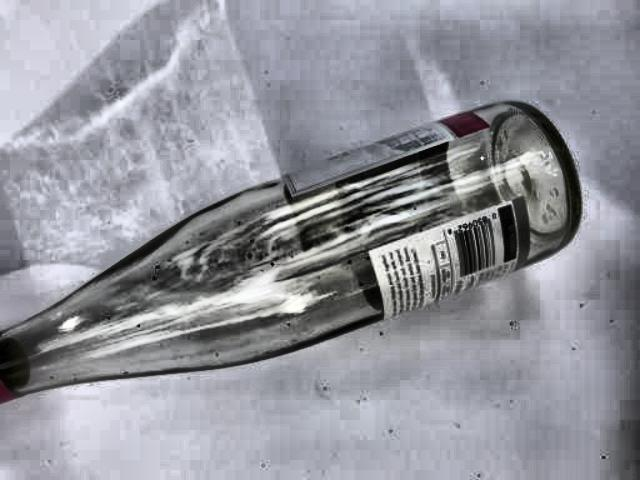Bottles: (0, 29, 596, 380)
